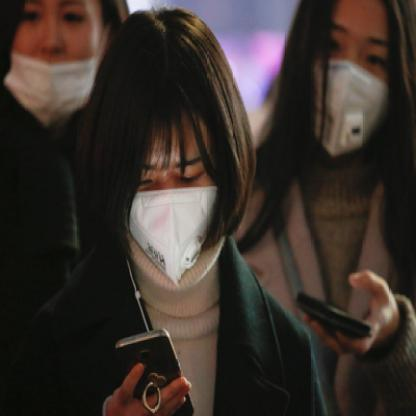mask_weared_incorrect: (3, 1, 107, 125)
with_mask: (123, 138, 222, 282), (310, 15, 396, 157)
